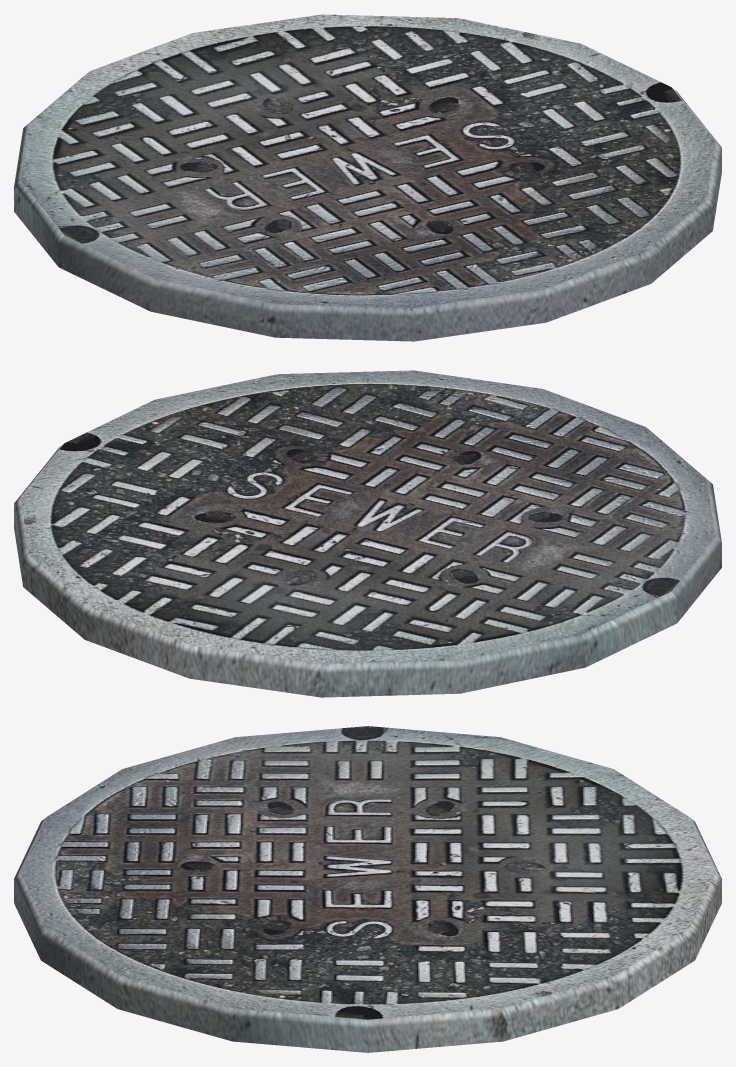
File: manhole_cover_01.fbx
3 renders of one model, top to bottom at view 1: azimuth 30°, elevation 25°; view 2: azimuth 150°, elevation 25°; view 3: azimuth 270°, elevation 25°, orthographic.
Parts seen in each view (by area): view 1: manhole_cover_01; view 2: manhole_cover_01; view 3: manhole_cover_01.
Boxes of the visible parts, x1=… form: manhole_cover_01: x1=14, y1=14, x2=721, y2=341; manhole_cover_01: x1=14, y1=370, x2=721, y2=697; manhole_cover_01: x1=14, y1=726, x2=721, y2=1052.
Size of the model in its own units: 2 by 0.095 by 2.
Materials: 1 (1 with a texture image).
